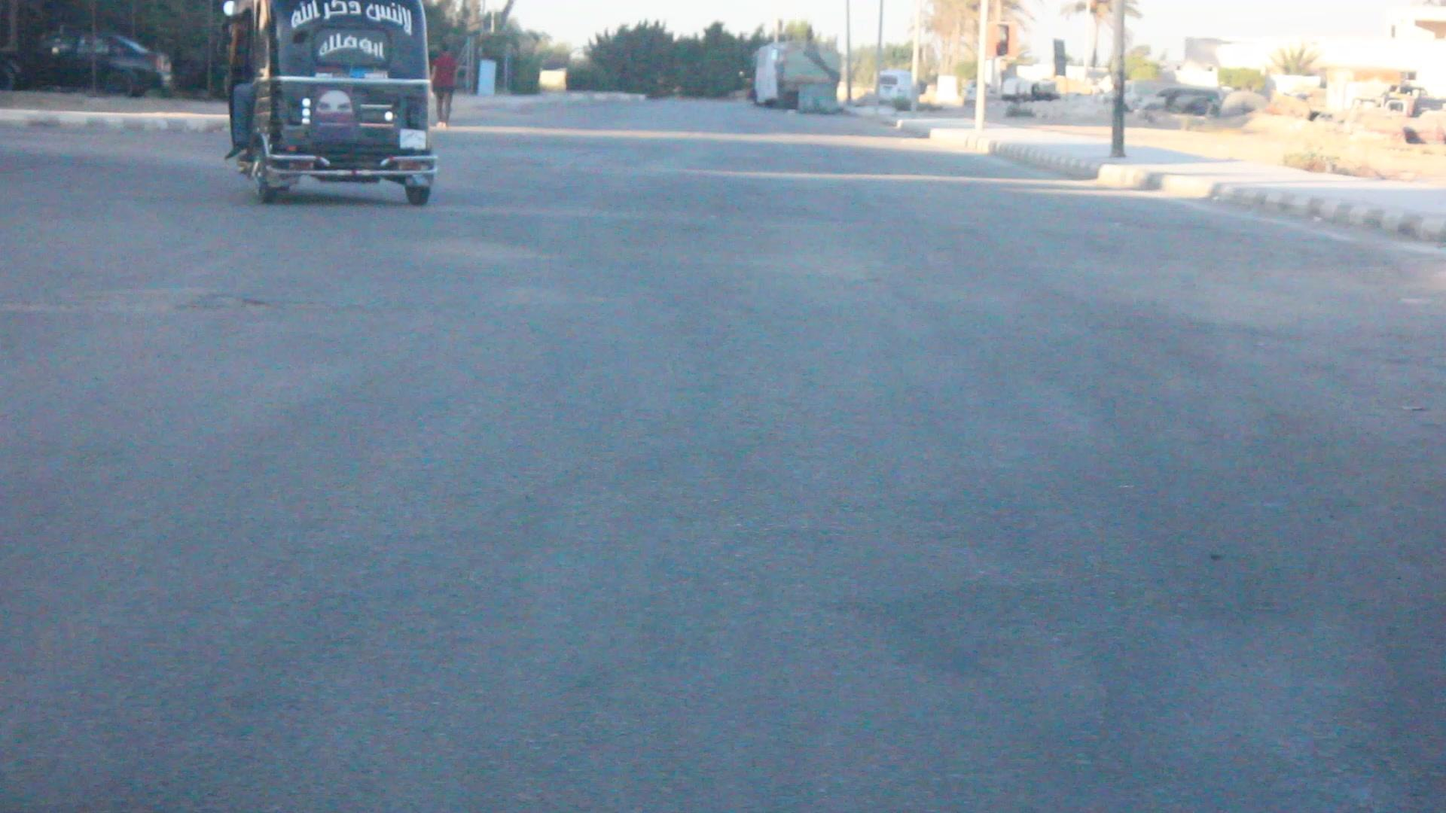Bump: (8, 192, 1408, 265)
